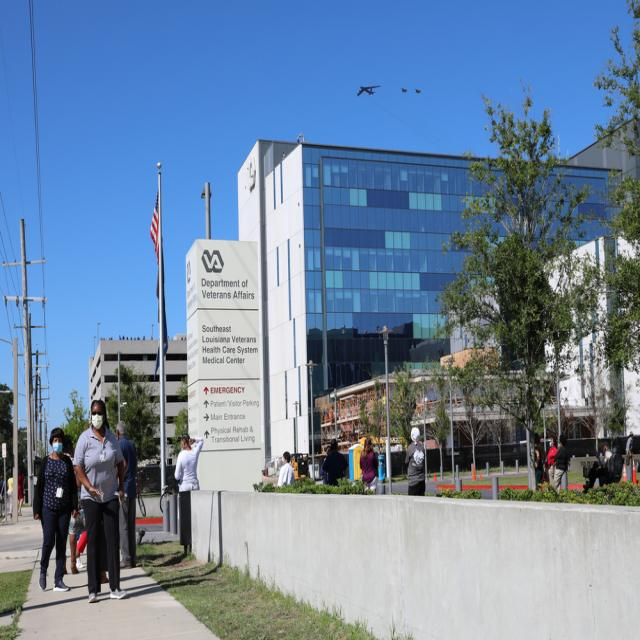MIL_Plane: (356, 65, 382, 79), (414, 88, 422, 95), (400, 87, 408, 94)
